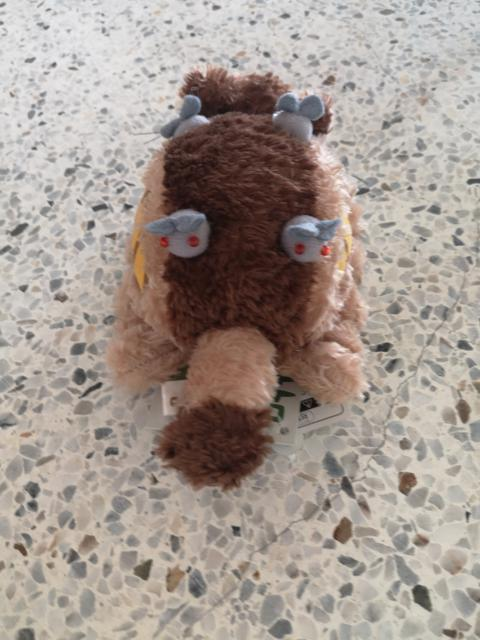nekobus: (106, 62, 374, 498)
